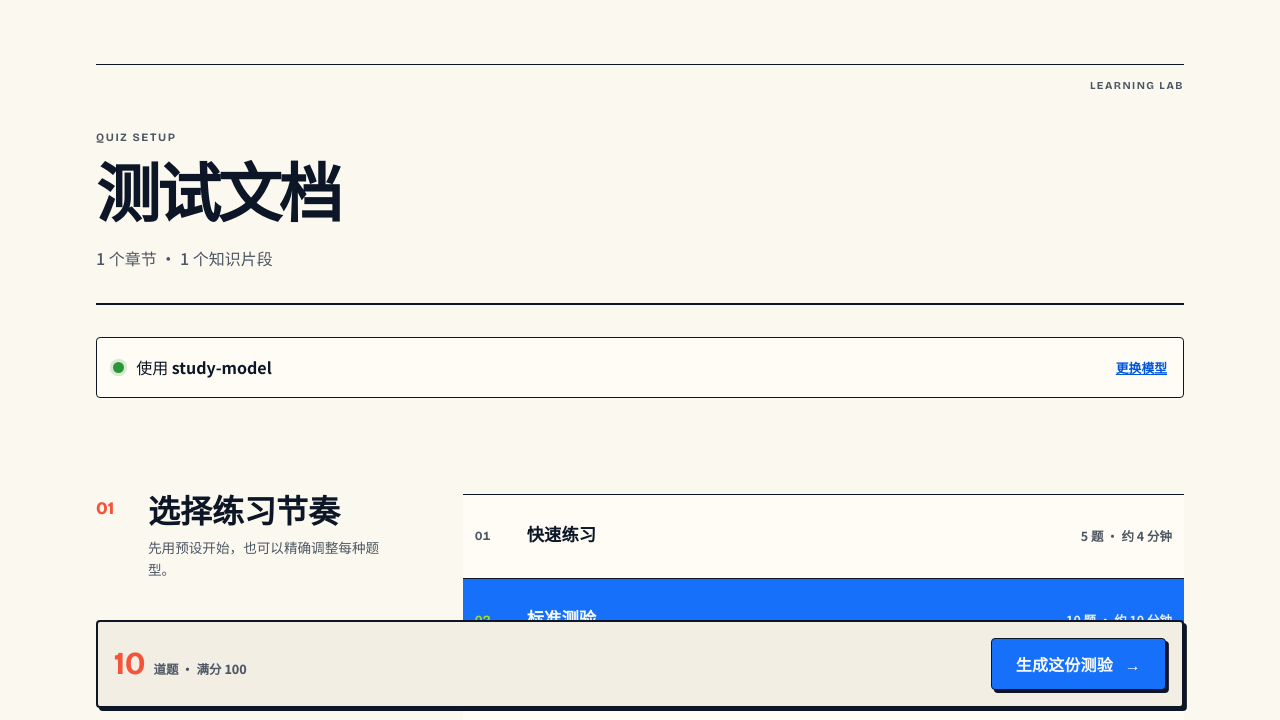
QuizConfigurator › shows animated, question-type-specific progress while generating
Click the button "生成这份测验 →" at (1078, 664), box [991, 638, 1166, 690]
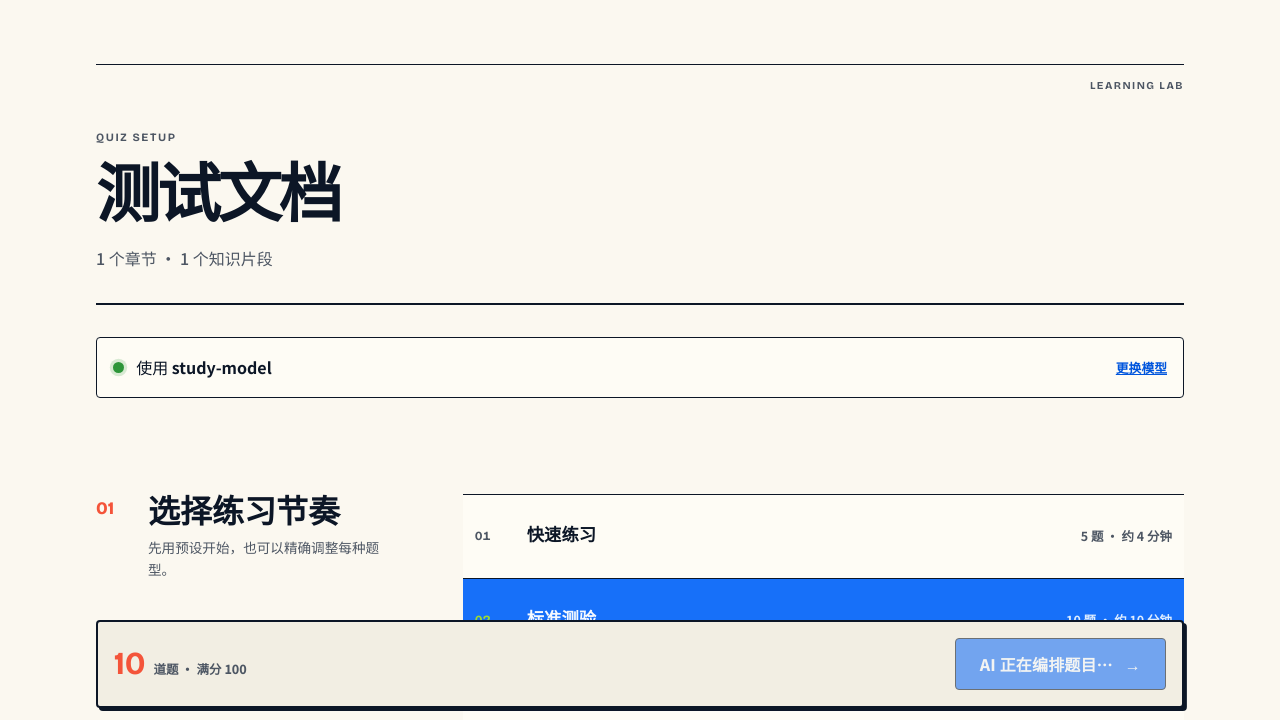
Check: the button "AI 正在编排题目… →" is disabled, box [955, 638, 1166, 690]
